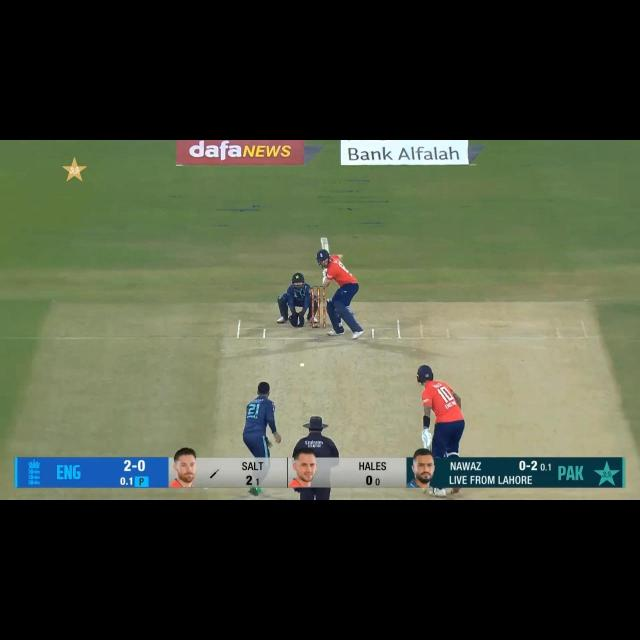bat: (320, 237, 330, 259)
toe: (318, 236, 331, 243), (419, 485, 429, 494)
